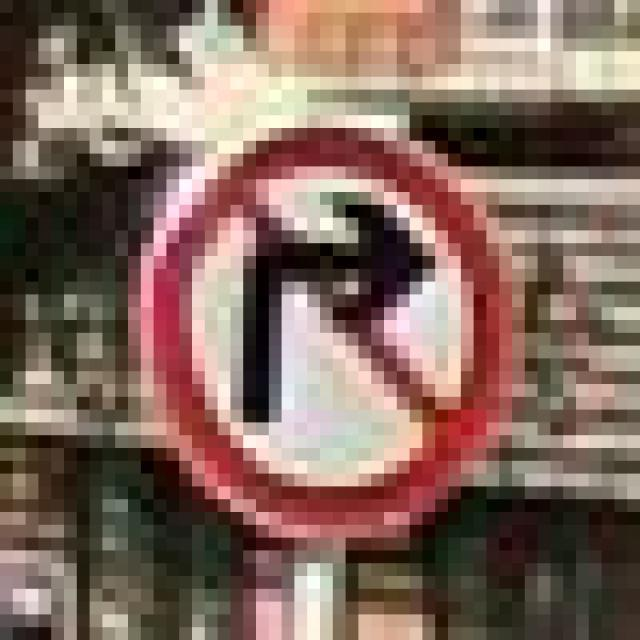right turn prohibited: (125, 114, 533, 544)
